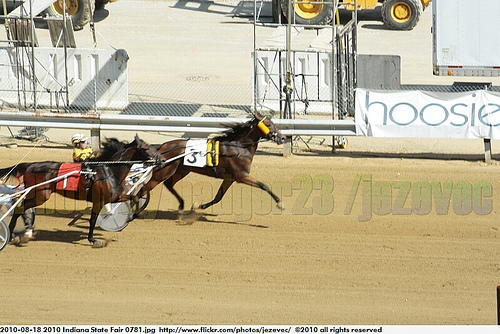horse: (1, 136, 172, 251), (128, 113, 288, 221)
